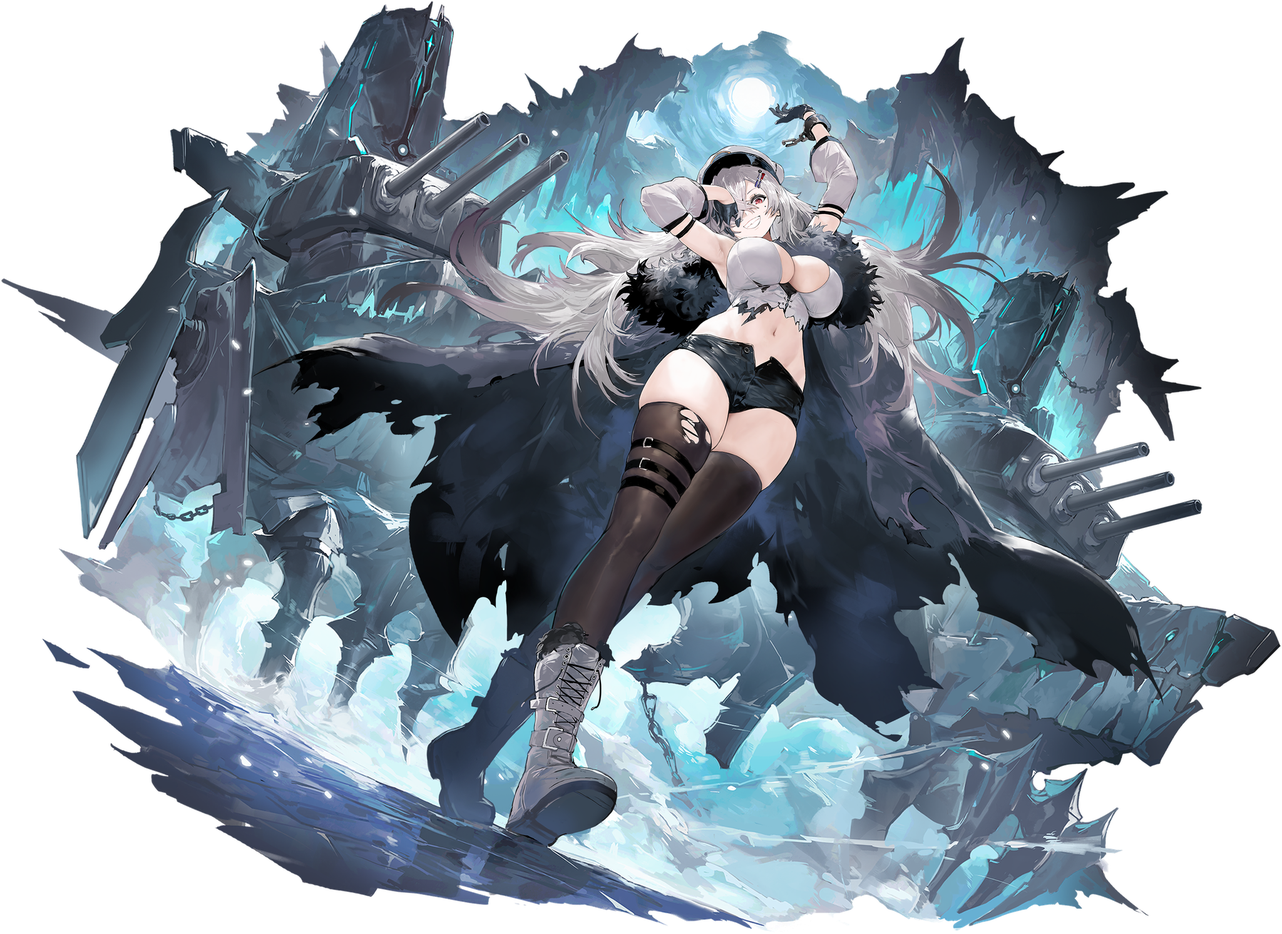person: (476, 114, 948, 911)
